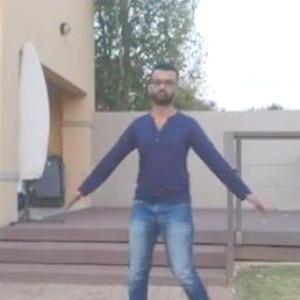land: (79, 68, 274, 299)
